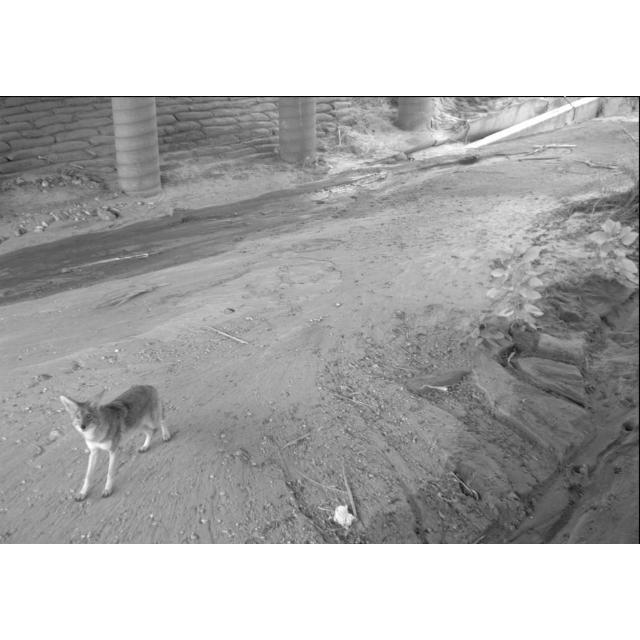animals: (60, 380, 168, 502)
